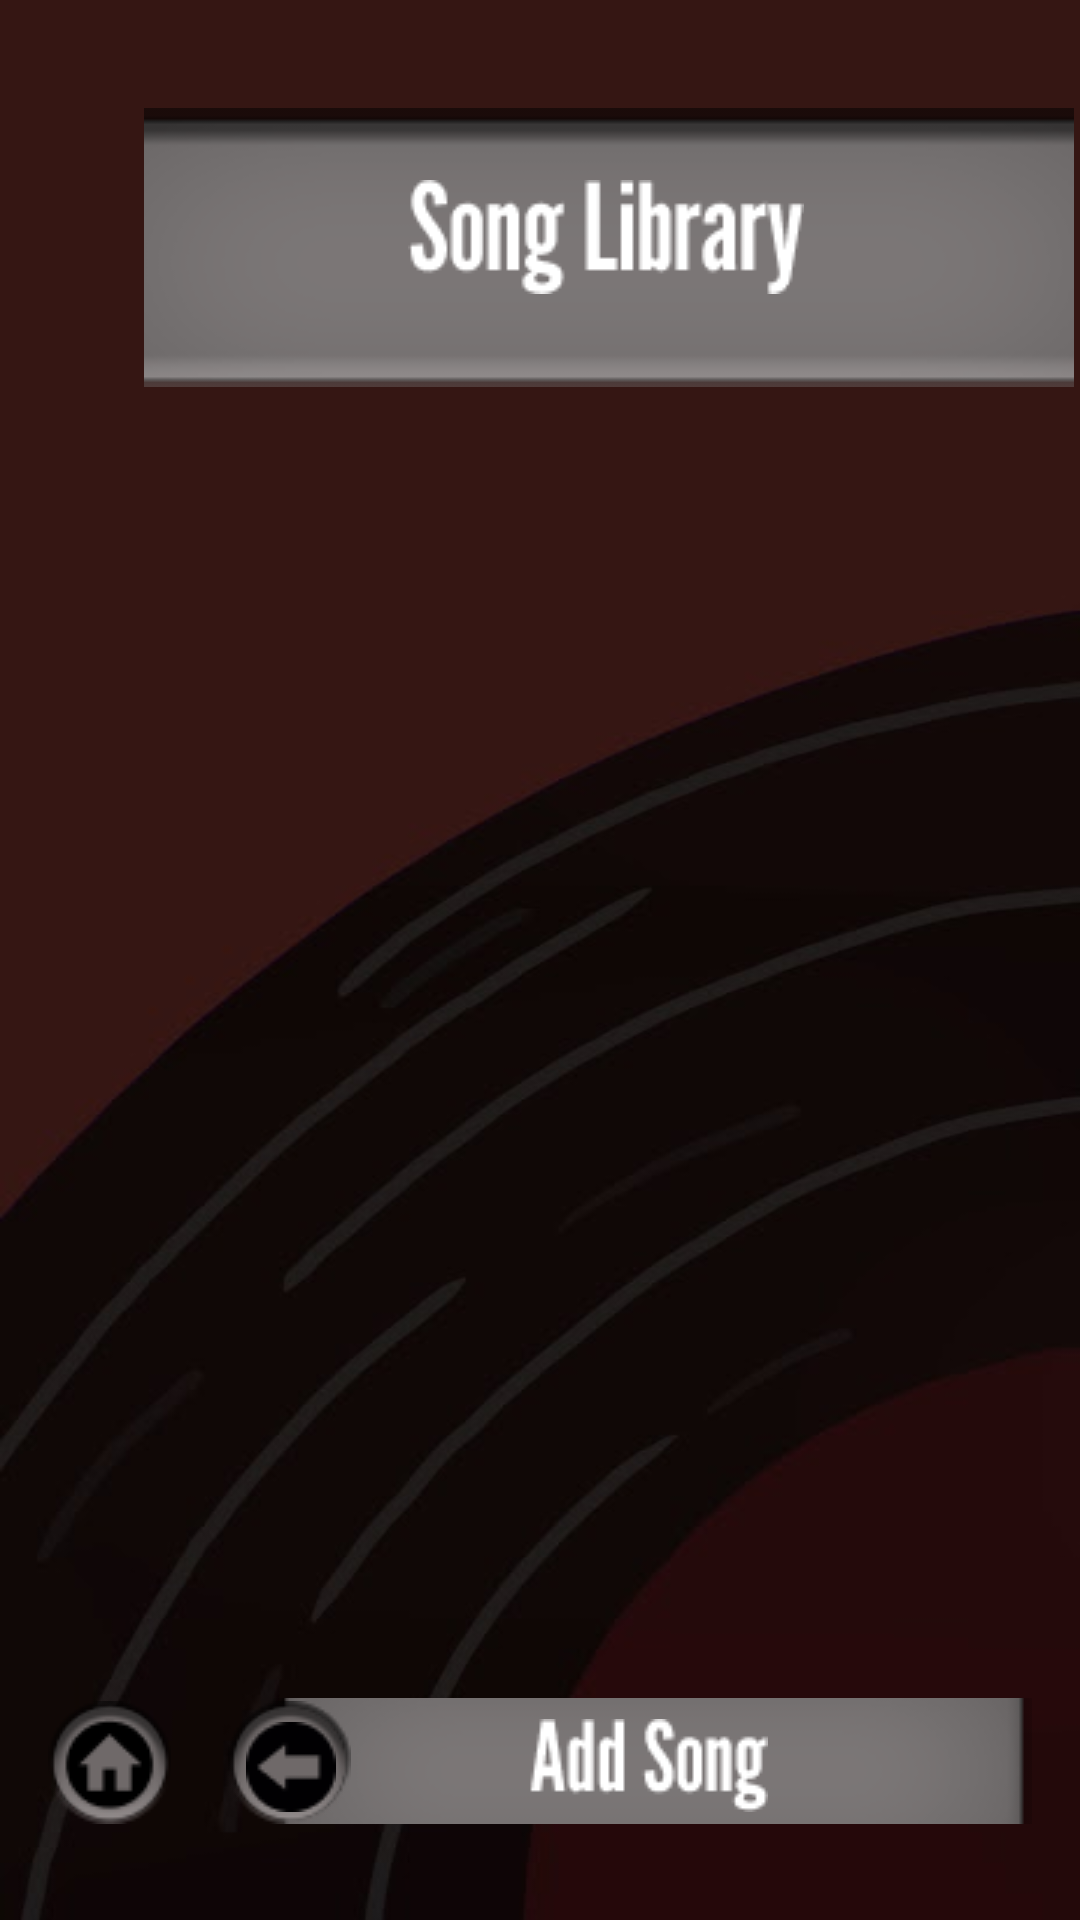

Point at icon controls on the screen. Image size 1080px x 1920px, points as (x,y).
back arrow: (291,1767)
home circle: (109,1765)
